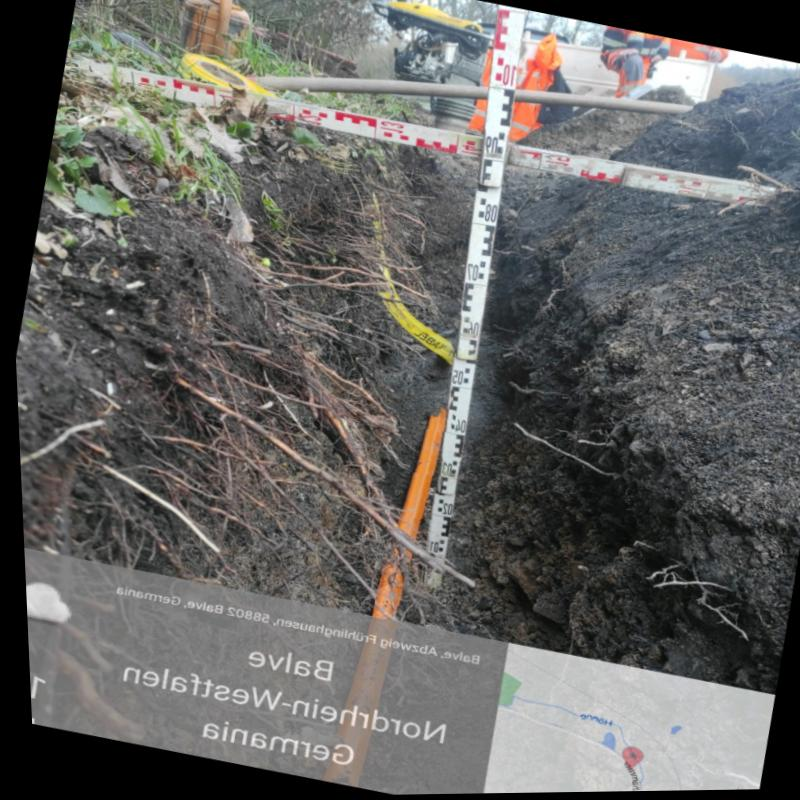Orang-Speednetrohrchen: (366, 411, 450, 623)
